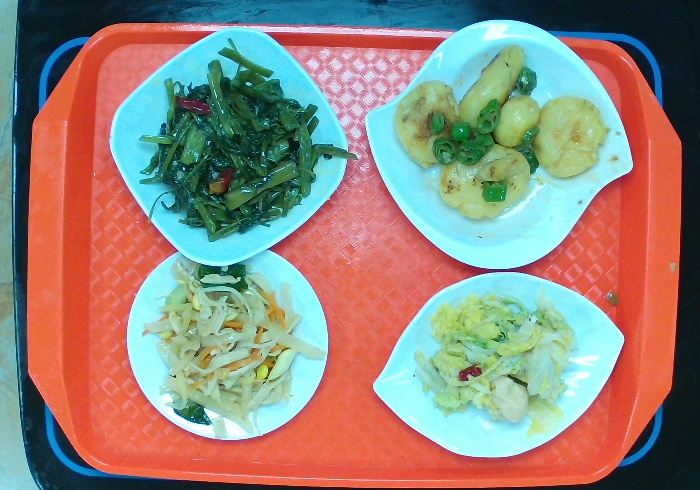RJxy-Da_Du_Pan: (368, 270, 628, 458)
RJxy-Shuang_Jiao_Pan: (366, 10, 636, 278)
RJxy-Si_Fang_Wan: (114, 25, 352, 266)
RJxy-Xiao_Yuan_Die: (127, 247, 329, 446)
